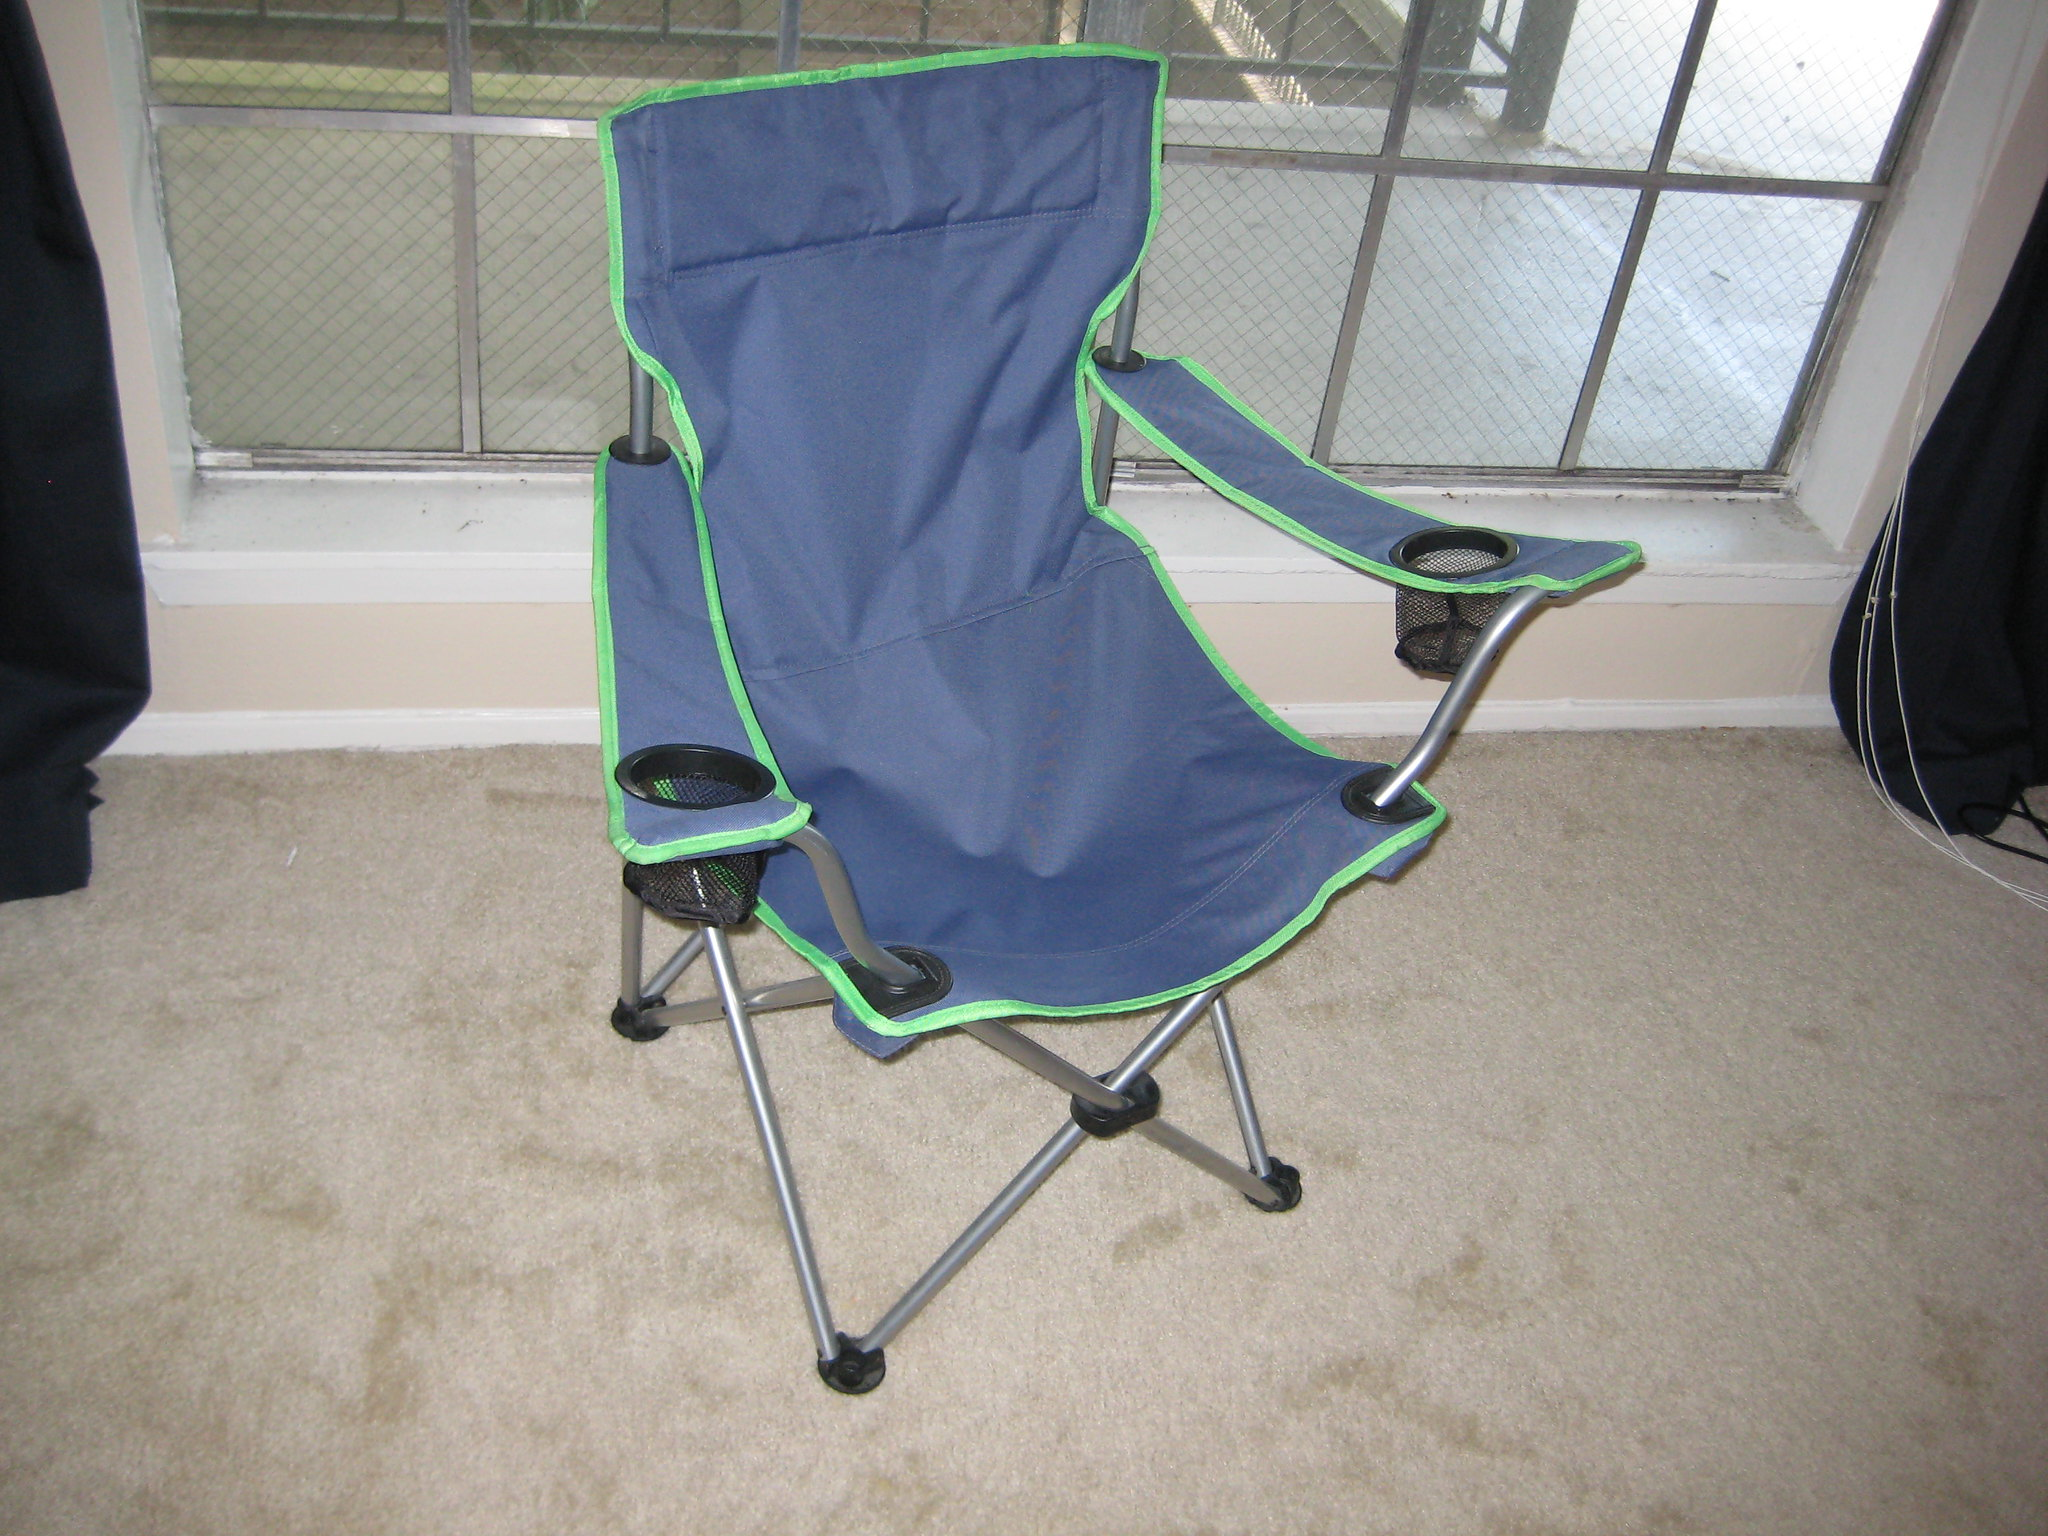chair: (443, 48, 1550, 1397)
